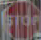Stop: (1, 8, 39, 39)
